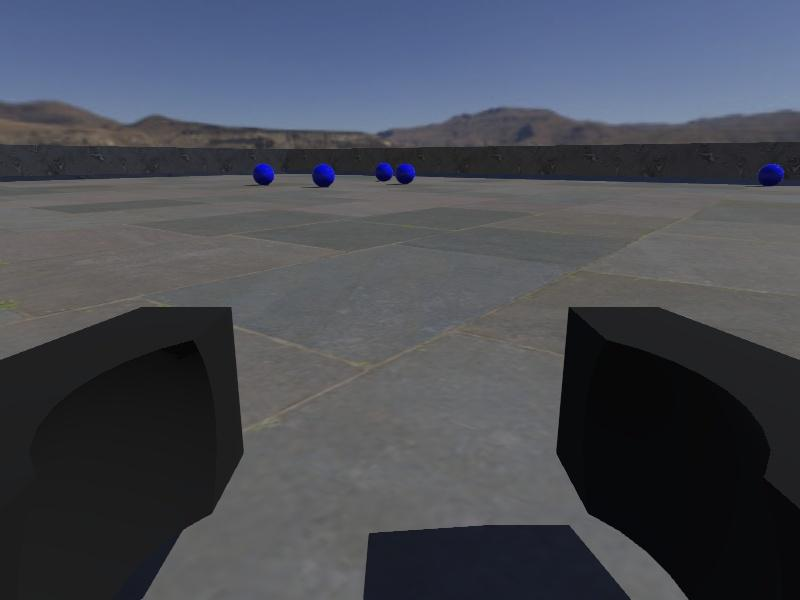blue ball: (757, 162, 786, 188), (312, 164, 336, 188), (394, 162, 415, 183), (253, 165, 275, 184), (375, 162, 394, 182)
